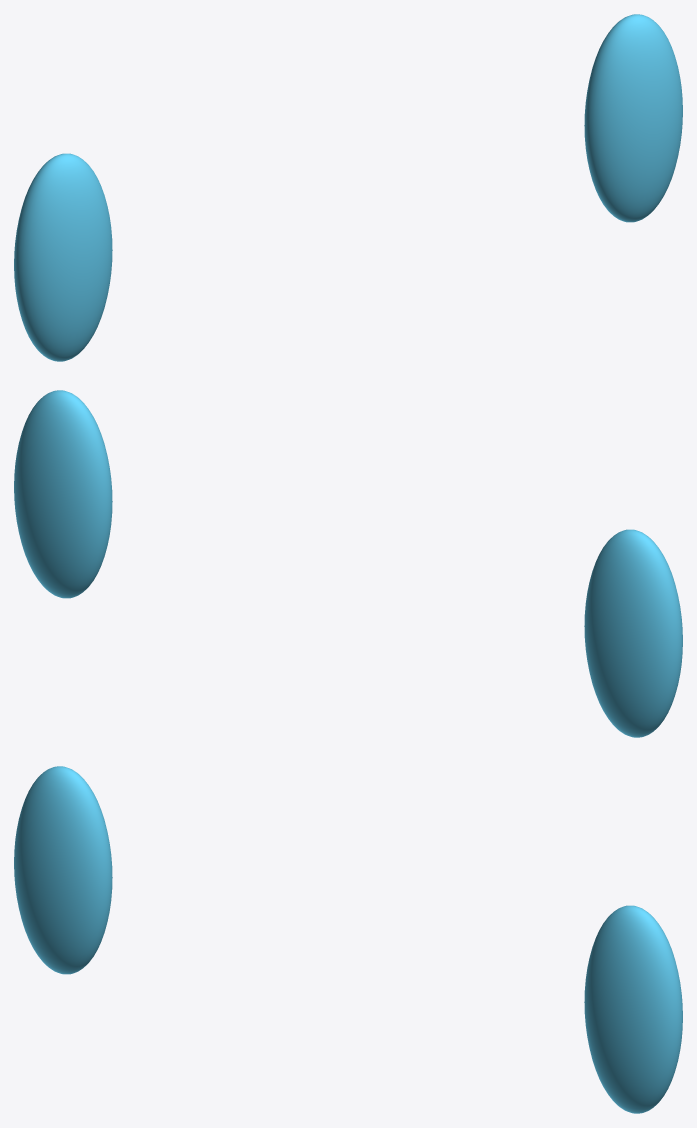
Rendered from girl-tears.glb.
The picture shows the model from 3 angles, top to bottom: view 1: azimuth 30°, elevation 25°; view 2: azimuth 150°, elevation 25°; view 3: azimuth 330°, elevation 25°; orthographic projection.
Parts seen in each view (by area): view 1: girl-tears; view 2: girl-tears; view 3: girl-tears.
Part boxes in pixels (<box>): girl-tears: <box>14,14,682,361</box>; girl-tears: <box>14,390,682,737</box>; girl-tears: <box>14,766,682,1113</box>.
Bounding box in the file's own units: 1.35 × 0.4 × 0.11.
